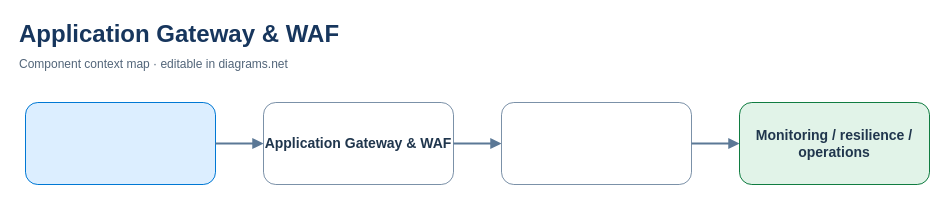
This 947x202 diagram has some shape labels left out. The centre of each missing label's shape, as x and y in pixels:
"D · Traffic Management & Delivery" belongs at point 120,143.
"Identity / network / governance controls" belongs at point 596,143.
